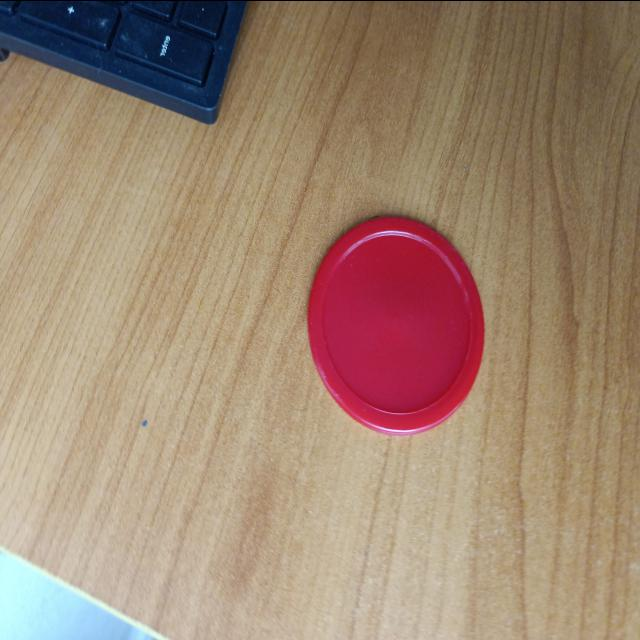chip: (307, 213, 485, 437)
